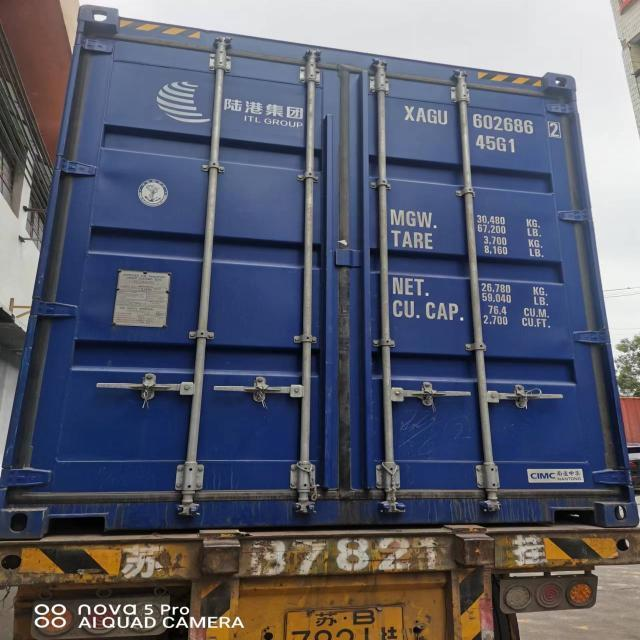ISO: (478, 136, 518, 154)
container_number: (398, 108, 571, 134)
